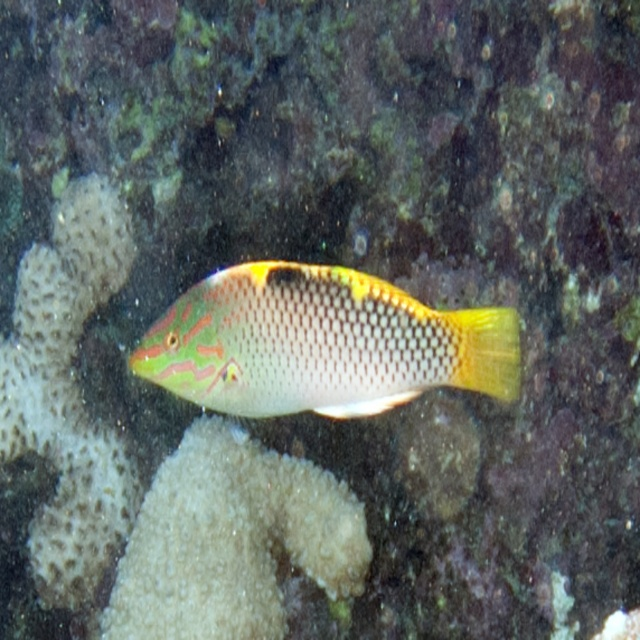Fish: (122, 247, 509, 455)
